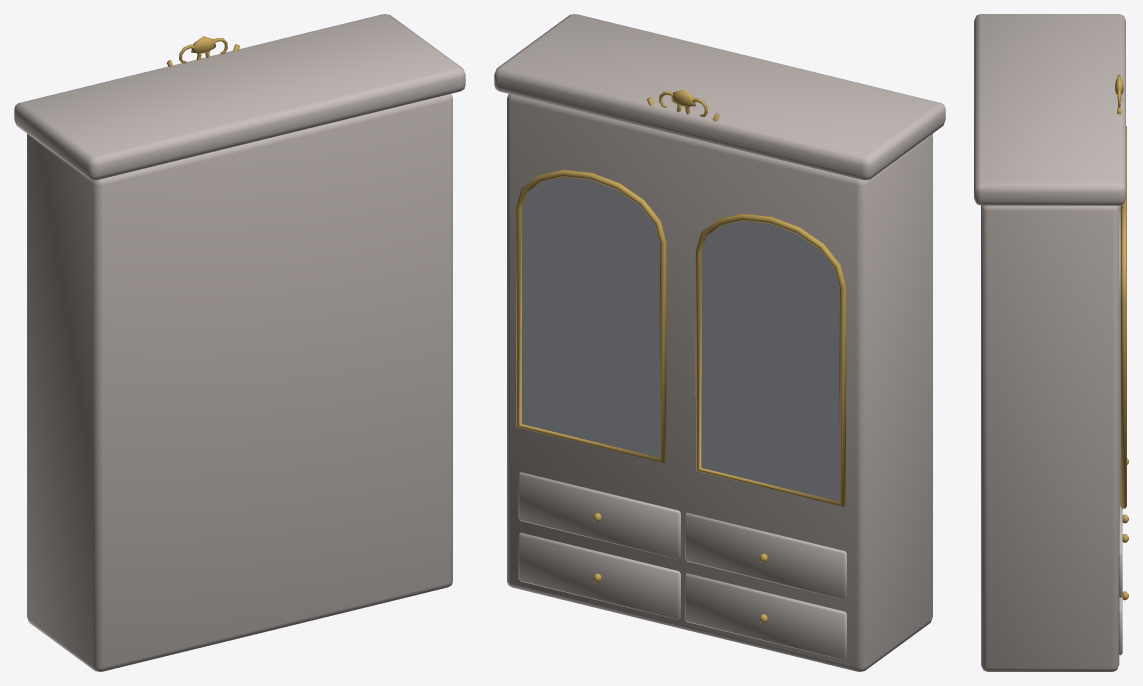
Rendered from linen_press.glb.
3 renders of one model, left to right at view 1: azimuth 30°, elevation 25°; view 2: azimuth 150°, elevation 25°; view 3: azimuth 270°, elevation 25°, orthographic. The views are drawn at different scales.
Visible parts, largest first — view 1: linen_press; view 2: linen_press; view 3: linen_press.
Boxes of the visible parts, x1,y1,x2,y2 form: linen_press: (14, 14, 465, 671); linen_press: (494, 14, 945, 671); linen_press: (974, 14, 1128, 671).
Size of what is drawn, in the model's own units: 1.6 by 2.2 by 0.6.
